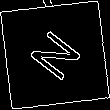N_SE: (23, 24, 87, 86)
